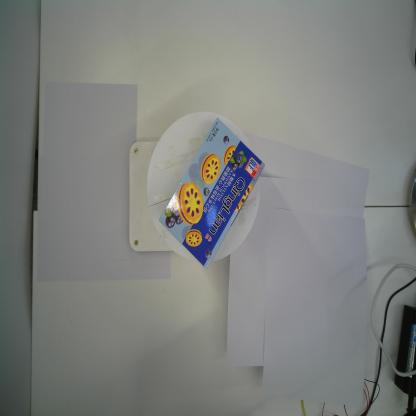Dessert: (158, 117, 265, 270)
